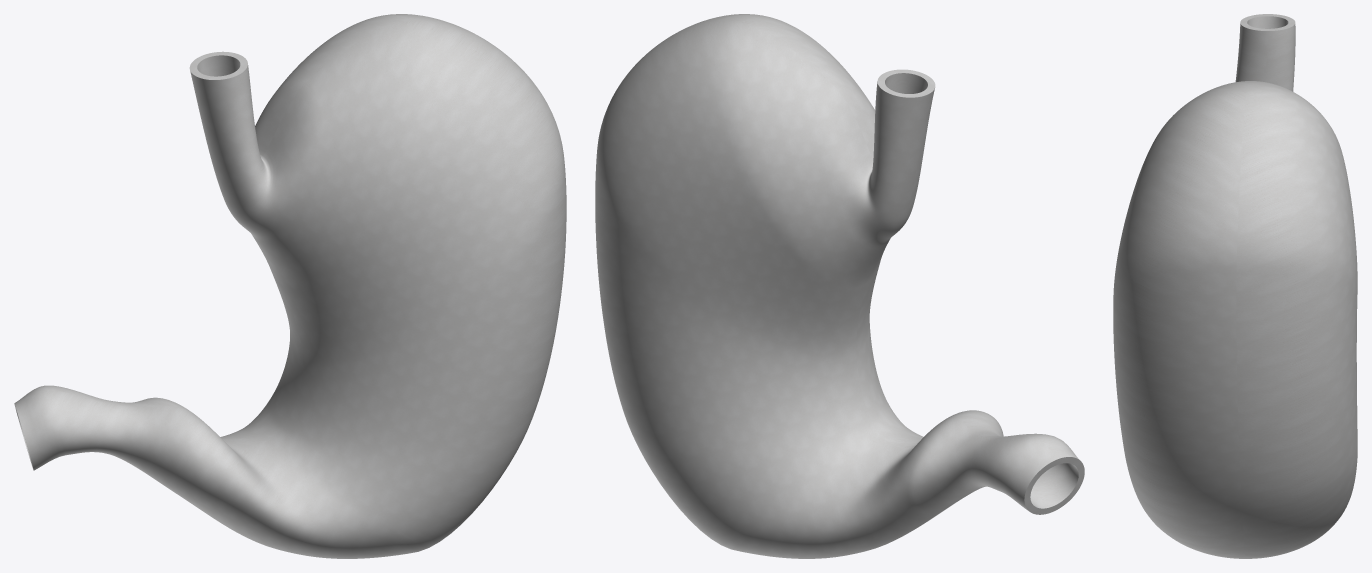
Rendered from white.glb.
The picture shows the model from 3 angles, left to right: view 1: azimuth 30°, elevation 25°; view 2: azimuth 150°, elevation 25°; view 3: azimuth 270°, elevation 25°; orthographic projection. The views are drawn at different scales.
Visible parts, largest first — view 1: Stomach; view 2: Stomach; view 3: Stomach.
Boxes of the visible parts, x1,y1,x2,y2 form: Stomach: [14, 14, 566, 558]; Stomach: [595, 14, 1084, 558]; Stomach: [1113, 14, 1357, 558].
Size of the model in its own units: 0.189 by 0.1856 by 0.0879.
Materials: 6 (6 with a texture image).
